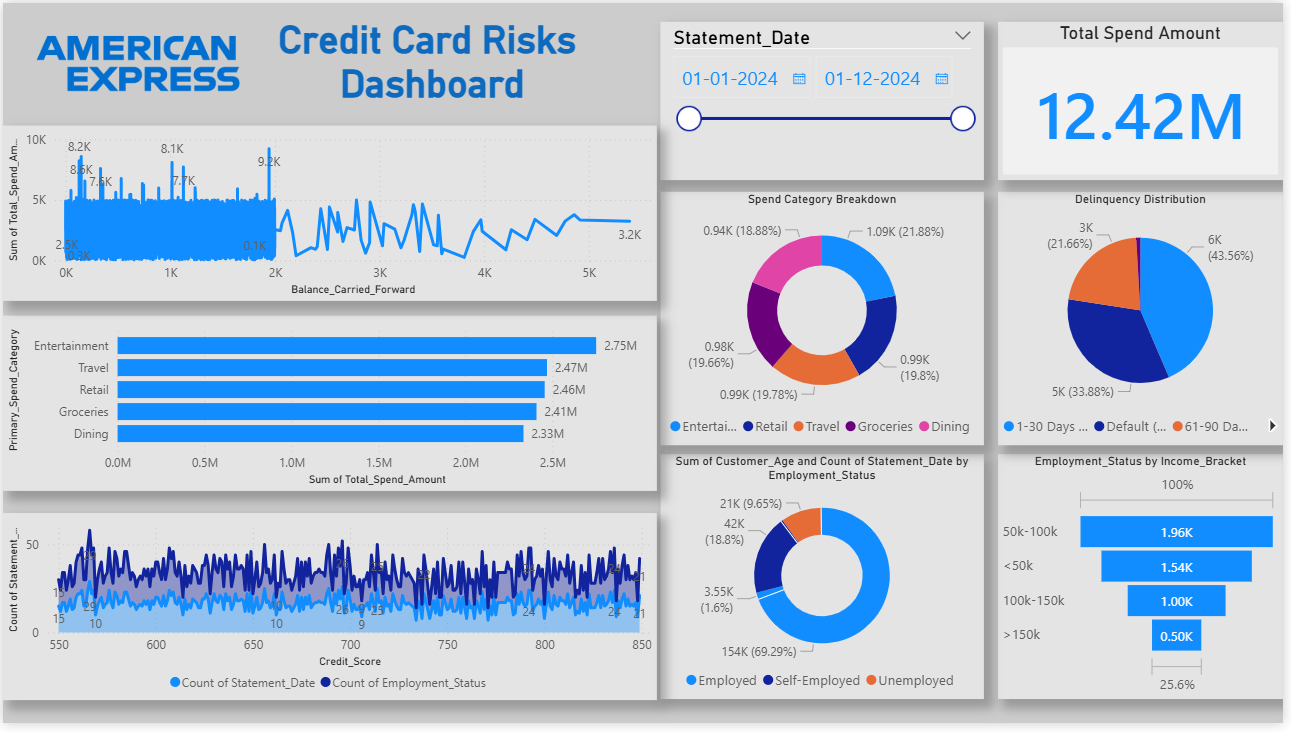

The dashboard page shown, as its layout file describes it:
{"tool":"powerbi","page":{"name":"Page 1","canvas":[1280,720],"ordinal":0},"visuals":[{"type":"image","box":[0,0,270,122.5],"z":0},{"type":"textbox","box":[200,8.8,458.8,113.8],"z":1000},{"type":"slicer","fields":{"Values":["amex_credit_risk_portfolio.Statement_Date"]},"box":[657.8,18.8,323.3,158.3],"z":2000},{"type":"donutChart","fields":{"Category":["amex_credit_risk_portfolio.Employment_Status"],"Y":["Sum(amex_credit_risk_portfolio.Customer_Age)","CountNonNull(amex_credit_risk_portfolio.Statement_Date)"]},"box":[657.8,451.7,323.3,245],"z":3000},{"type":"donutChart","title":"Spend Category Breakdown","fields":{"Y":["CountNonNull(amex_credit_risk_portfolio.Statement_Date)"],"Category":["amex_credit_risk_portfolio.Primary_Spend_Category"]},"box":[657.8,188.3,323.3,253.3],"z":4000},{"type":"stackedAreaChart","title":"Statement_Date and Count of Employment_Status by Credit_Score","fields":{"Category":["amex_credit_risk_portfolio.Credit_Score"],"Y":["CountNonNull(amex_credit_risk_portfolio.Statement_Date)","CountNonNull(amex_credit_risk_portfolio.Employment_Status)"]},"box":[0,509.6,653.8,187.5],"z":5000},{"type":"barChart","fields":{"Category":["amex_credit_risk_portfolio.Primary_Spend_Category"],"Y":["Sum(amex_credit_risk_portfolio.Total_Spend_Amount)"]},"box":[0,312.5,653.3,175],"z":6000},{"type":"funnel","title":"Employment_Status by Income_Bracket","fields":{"Y":["CountNonNull(amex_credit_risk_portfolio.Employment_Status)"],"Category":["amex_credit_risk_portfolio.Income_Bracket"]},"box":[994.4,451.7,285,245],"z":7000},{"type":"lineChart","fields":{"Category":["amex_credit_risk_portfolio.Balance_Carried_Forward"],"Y":["Sum(amex_credit_risk_portfolio.Total_Spend_Amount)"]},"box":[0,122.5,653.3,175],"z":8000},{"type":"pieChart","title":"Delinquency Distribution","fields":{"Category":["amex_credit_risk_portfolio.Delinquency_Status"],"Y":["Sum(amex_credit_risk_portfolio.Days_Past_Due)"]},"box":[994.4,188.3,285,253.3],"z":9000},{"type":"cardVisual","title":"Total Spend Amount","fields":{"Data":["Sum(amex_credit_risk_portfolio.Total_Spend_Amount)"]},"box":[994.4,18.8,285,158.3],"z":10000}]}

Visuals, with their boxes in screenshot pixels (x1, y1, x2, y2), scaled from the page's 1280x720 canvas onto the 1291x732 screenshot:
image: {"left": 0, "top": 0, "right": 272, "bottom": 125}
textbox: {"left": 202, "top": 9, "right": 664, "bottom": 125}
slicer - amex_credit_risk_portfolio.Statement_Date: {"left": 663, "top": 19, "right": 990, "bottom": 180}
donutChart - amex_credit_risk_portfolio.Employment_Status x Sum(amex_credit_risk_portfolio.Customer_Age): {"left": 663, "top": 459, "right": 990, "bottom": 708}
"Spend Category Breakdown" donutChart: {"left": 663, "top": 191, "right": 990, "bottom": 449}
"Statement_Date and Count of Employment_Status by Credit_Score" stackedAreaChart: {"left": 0, "top": 518, "right": 659, "bottom": 709}
barChart - amex_credit_risk_portfolio.Primary_Spend_Category x Sum(amex_credit_risk_portfolio.Total_Spend_Amount): {"left": 0, "top": 318, "right": 659, "bottom": 496}
"Employment_Status by Income_Bracket" funnel: {"left": 1003, "top": 459, "right": 1290, "bottom": 708}
lineChart - amex_credit_risk_portfolio.Balance_Carried_Forward x Sum(amex_credit_risk_portfolio.Total_Spend_Amount): {"left": 0, "top": 125, "right": 659, "bottom": 302}
"Delinquency Distribution" pieChart: {"left": 1003, "top": 191, "right": 1290, "bottom": 449}
"Total Spend Amount" cardVisual: {"left": 1003, "top": 19, "right": 1290, "bottom": 180}
